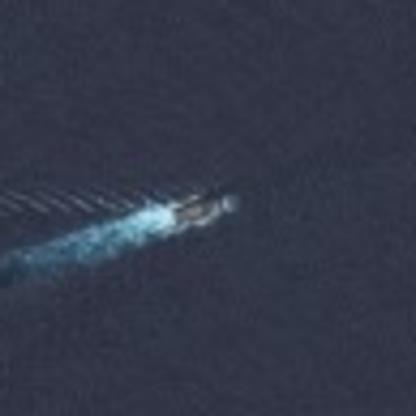ship: (165, 180, 230, 238)
